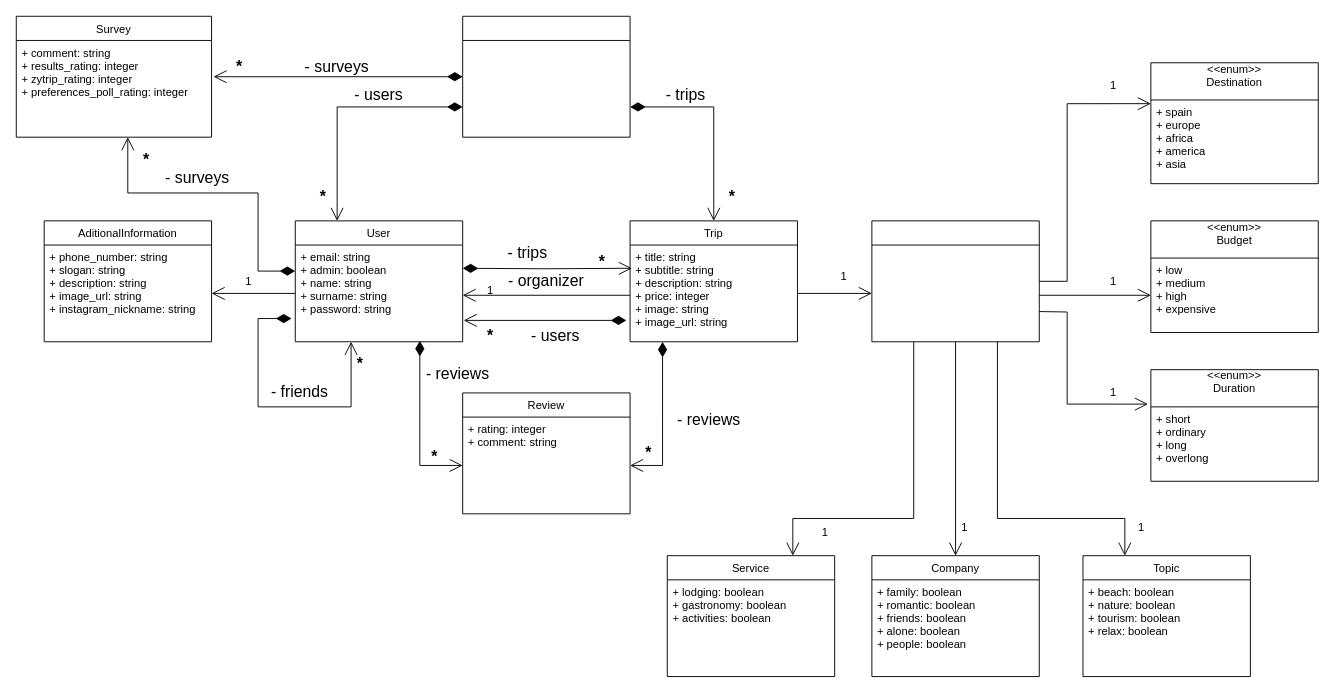
This 1335x696 diagram has some shape labels left out. The shapes that lost their labels are listed below. From the top down, each one's centre as x and y in pixels, then its label:
(x=546, y=76): Zytrip
(x=955, y=281): Preference
